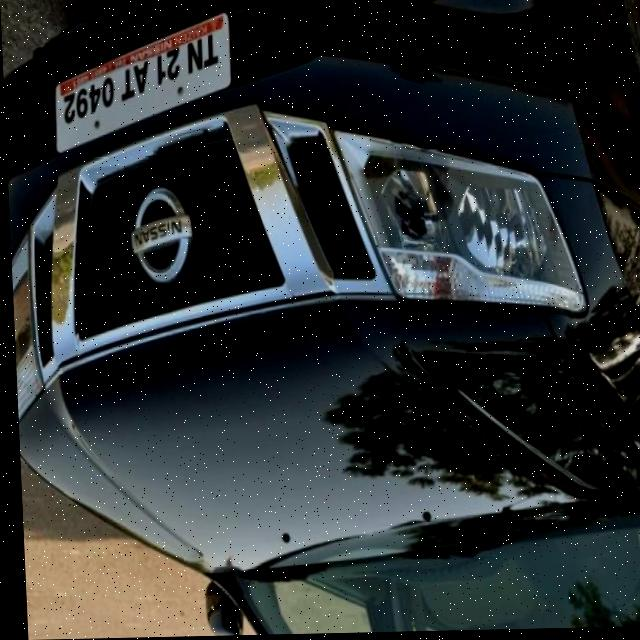plate: (49, 14, 236, 156)
